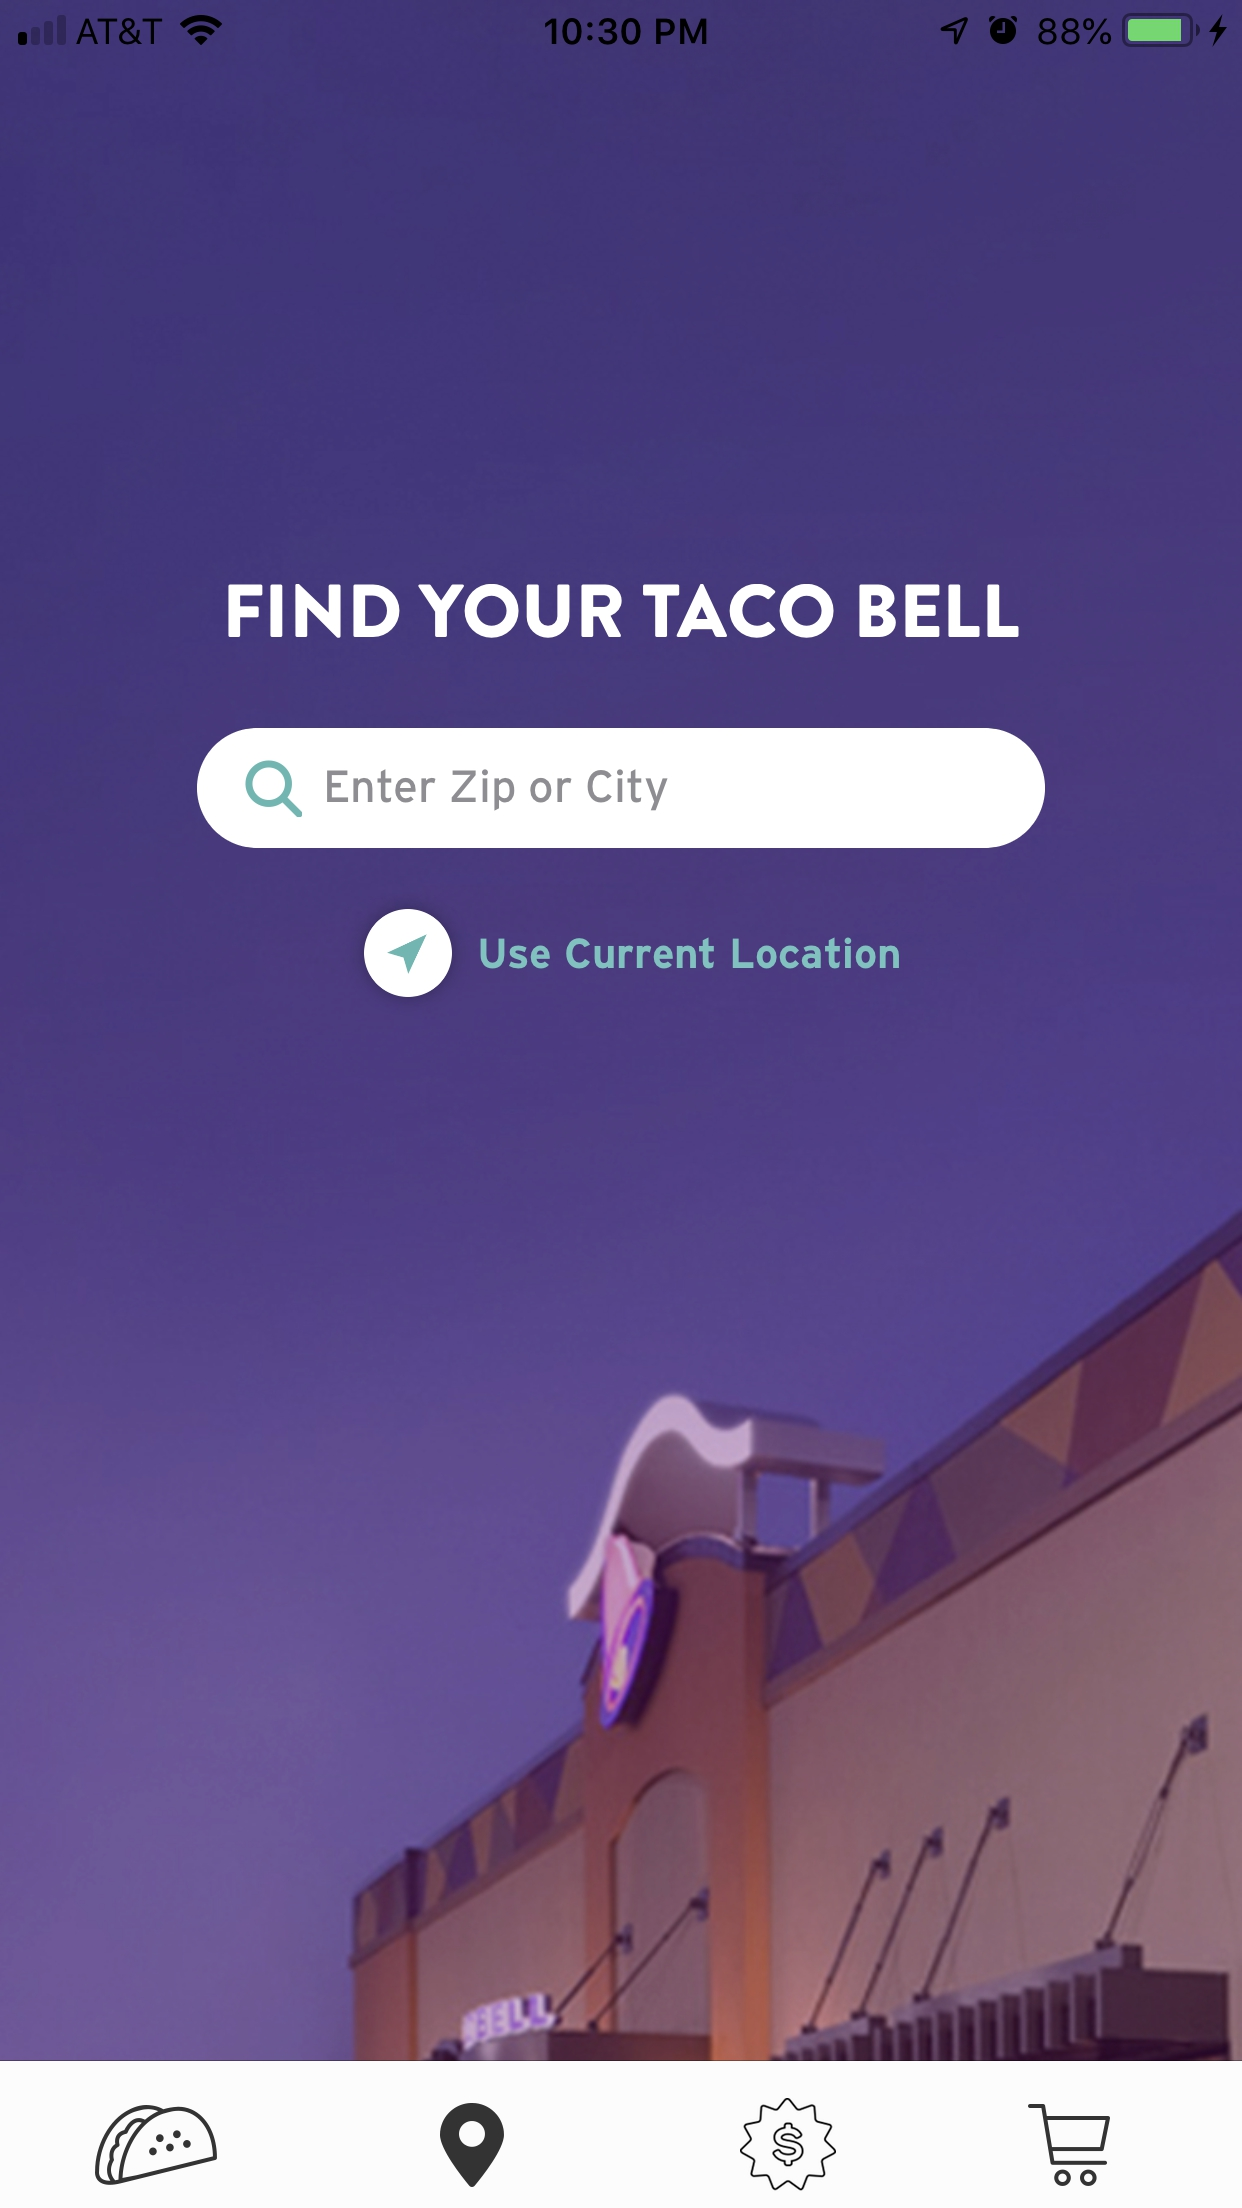BackgroundImage: (2, 2, 1242, 2061)
EditText: (199, 728, 1046, 849)
Icon: (739, 2097, 837, 2191), (362, 908, 453, 999), (1027, 2103, 1112, 2187), (438, 2102, 505, 2188), (246, 760, 303, 817)
Image: (96, 2103, 218, 2185)
Text: (227, 582, 1021, 638), (328, 769, 669, 811), (481, 937, 901, 971)
UpperTaskBar: (2, 2, 1242, 49)
